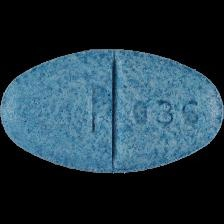42254-281: (0, 0, 224, 224)
